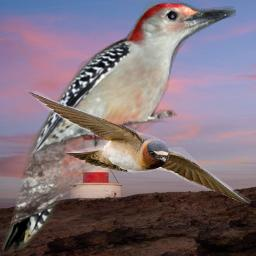Swallow: (23, 86, 252, 204)
Woodpecker: (2, 0, 236, 254)
